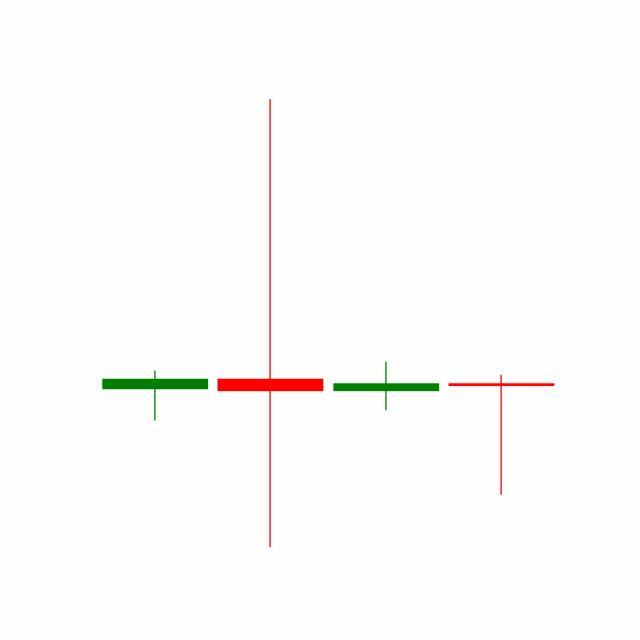Spinning Top: (329, 361, 445, 412)
